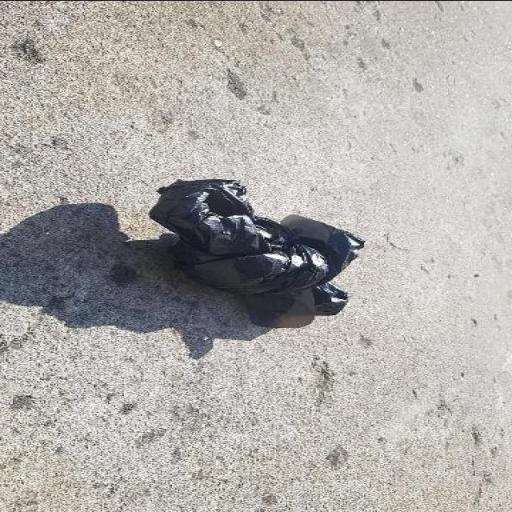plastic-bag: (149, 176, 371, 330)
